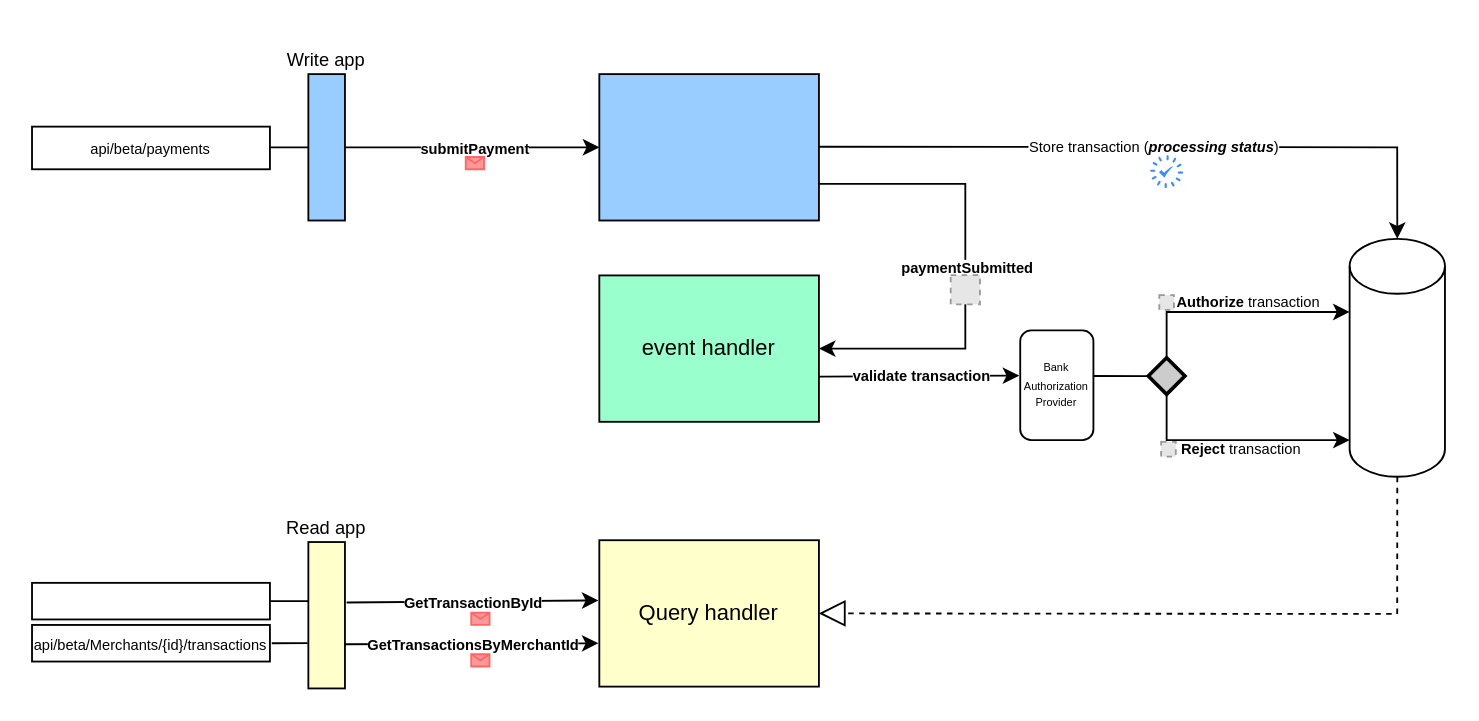
This 1479x721 diagram has some shape labels left out. Grey dashed boxes stand in for pictures. Each missing label, with the box of its shape:
api/beta/transactions/(id): (30, 581, 270, 619)
command handler: (597, 72, 819, 221)
Transactions: (1348, 237, 1445, 477)
